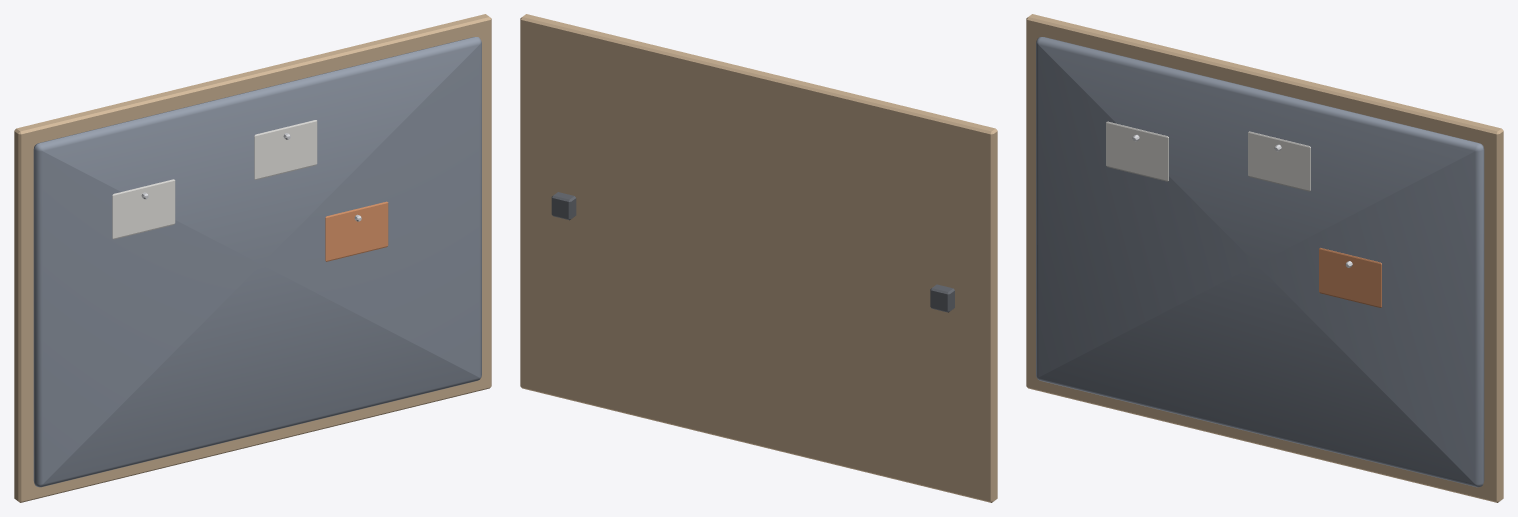
Rendered from downtown-office-interiors-pinboard-panel-da684d88__17021.glb.
3 renders of one model, left to right at view 1: azimuth 30°, elevation 25°; view 2: azimuth 150°, elevation 25°; view 3: azimuth 330°, elevation 25°, orthographic.
Visible parts, largest first — view 1: pinboard-panel; view 2: pinboard-panel; view 3: pinboard-panel.
Part boxes in pixels (left/top/right/bottom): pinboard-panel: left=14, top=14, right=491, bottom=502; pinboard-panel: left=520, top=14, right=997, bottom=502; pinboard-panel: left=1026, top=14, right=1503, bottom=502.
Bounding box in the file's own units: 1.2 × 0.9 × 0.094.
